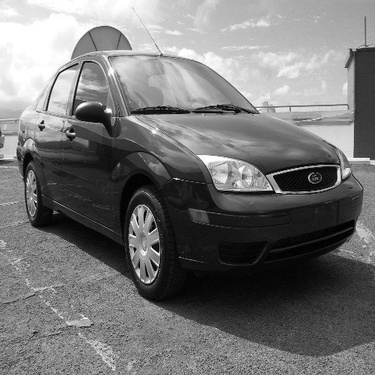car: (21, 22, 359, 305)
